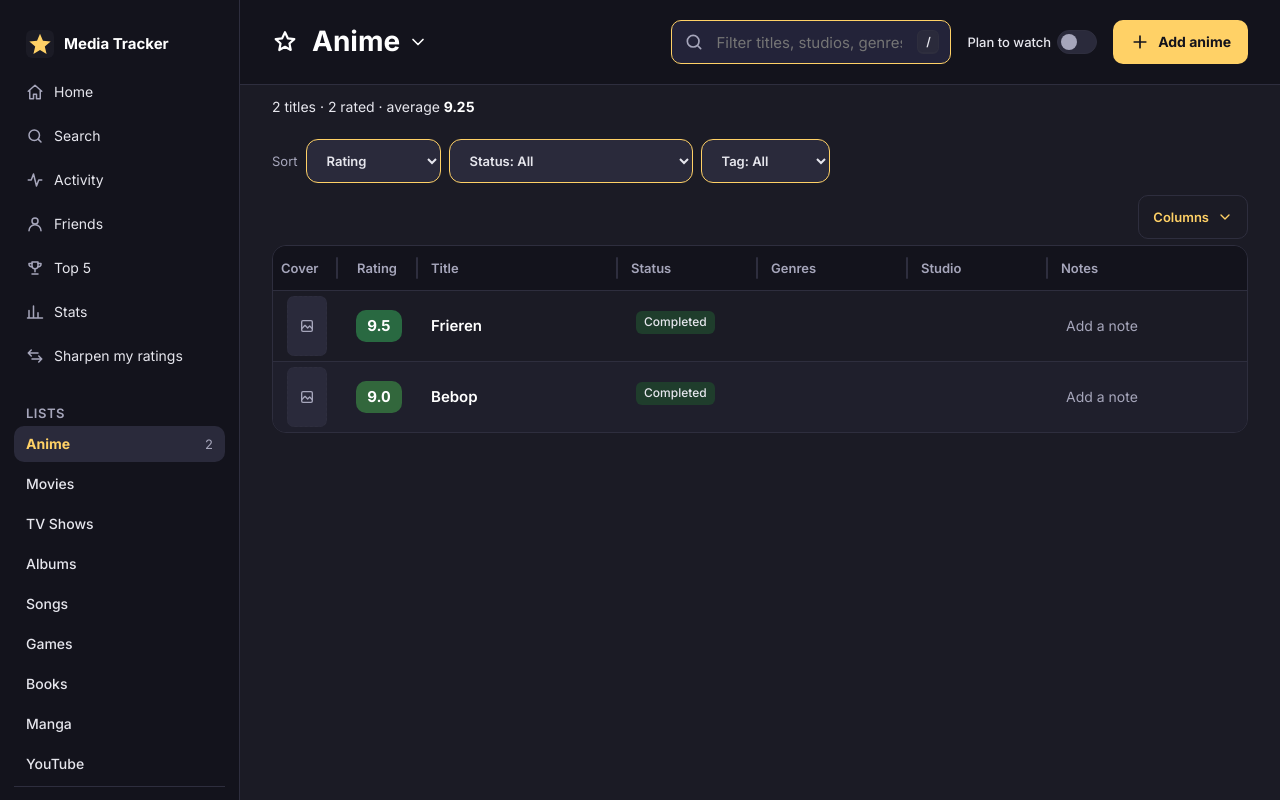
Test case: Columns menu (PC table) › starts with the extra columns off and lists the five choices
expect the table is shown: met, box top-left (273, 246), bottom-right (1248, 432)
Click the button "Columns" at (1193, 217), box top-left (1138, 195), bottom-right (1248, 239)
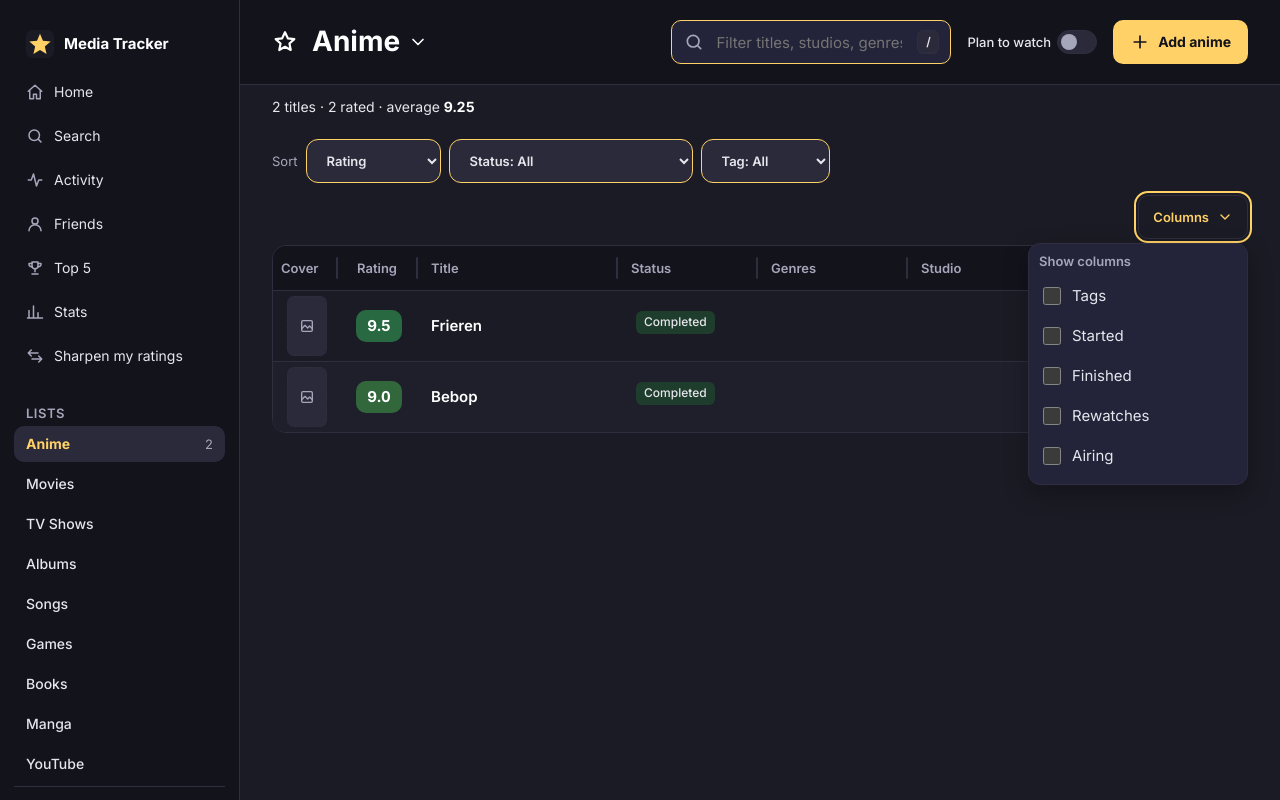
expect the checkbox labelled "Tags" is not checked: met, box top-left (1043, 287), bottom-right (1061, 305)
expect the checkbox labelled "Started" is not checked: met, box top-left (1043, 327), bottom-right (1061, 345)
expect the checkbox labelled "Finished" is not checked: met, box top-left (1043, 367), bottom-right (1061, 385)
